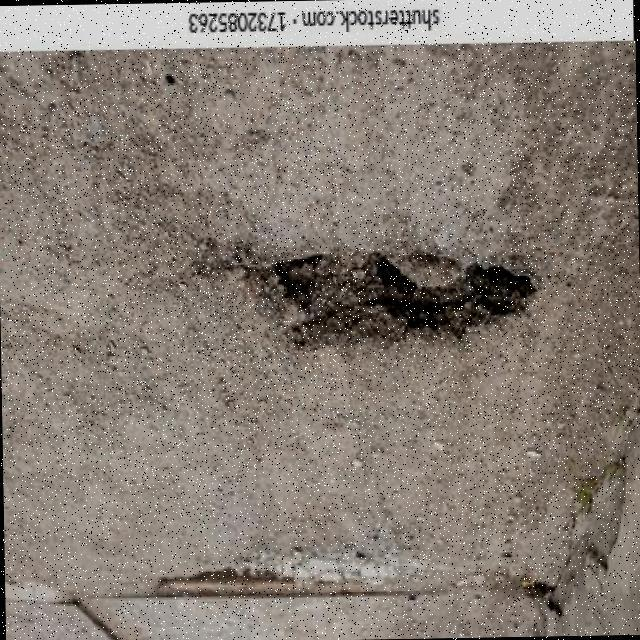Pothole: (269, 248, 534, 347)
